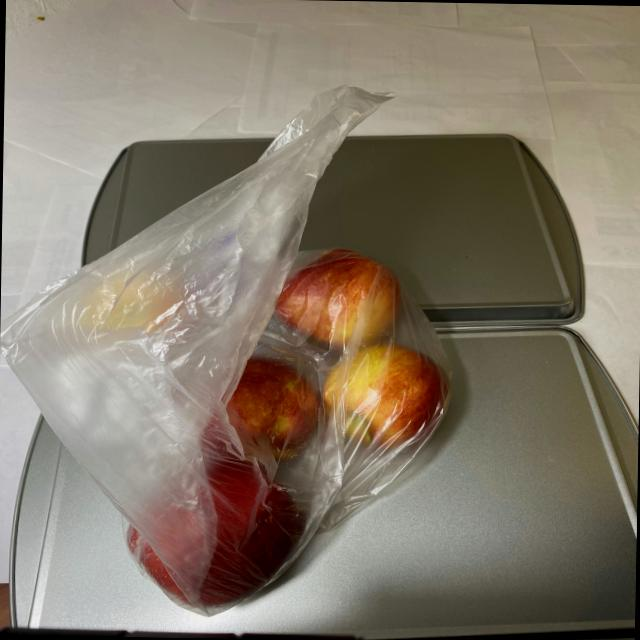apple: (116, 232, 455, 620)
